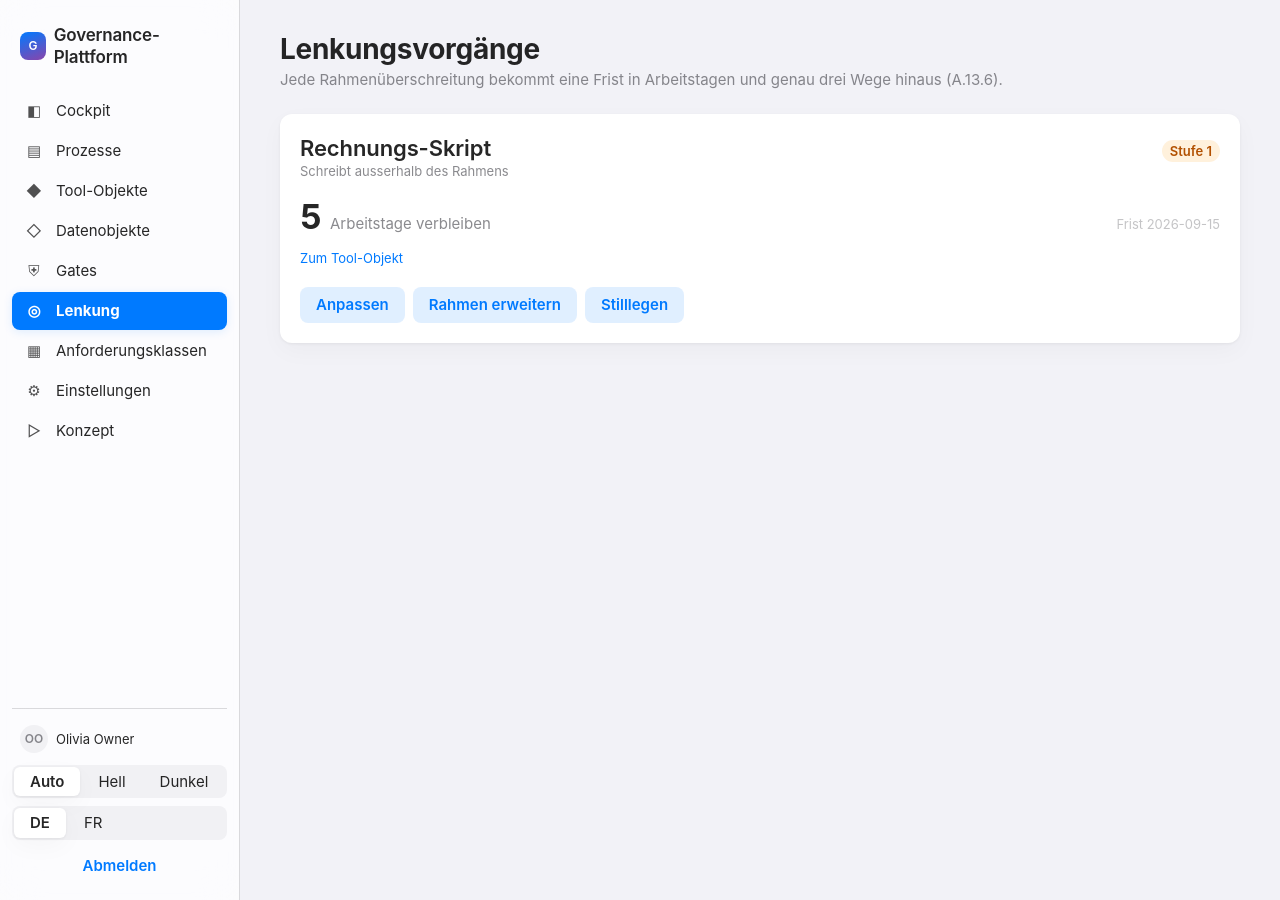
Test case: Lenkungsvorgaenge › loest per Anpassen auf
The width and height of the screenshot is (1280, 900).
Click the button with test id "anpassen-lv-1".
click(352, 305)  # box [300, 287, 405, 323]
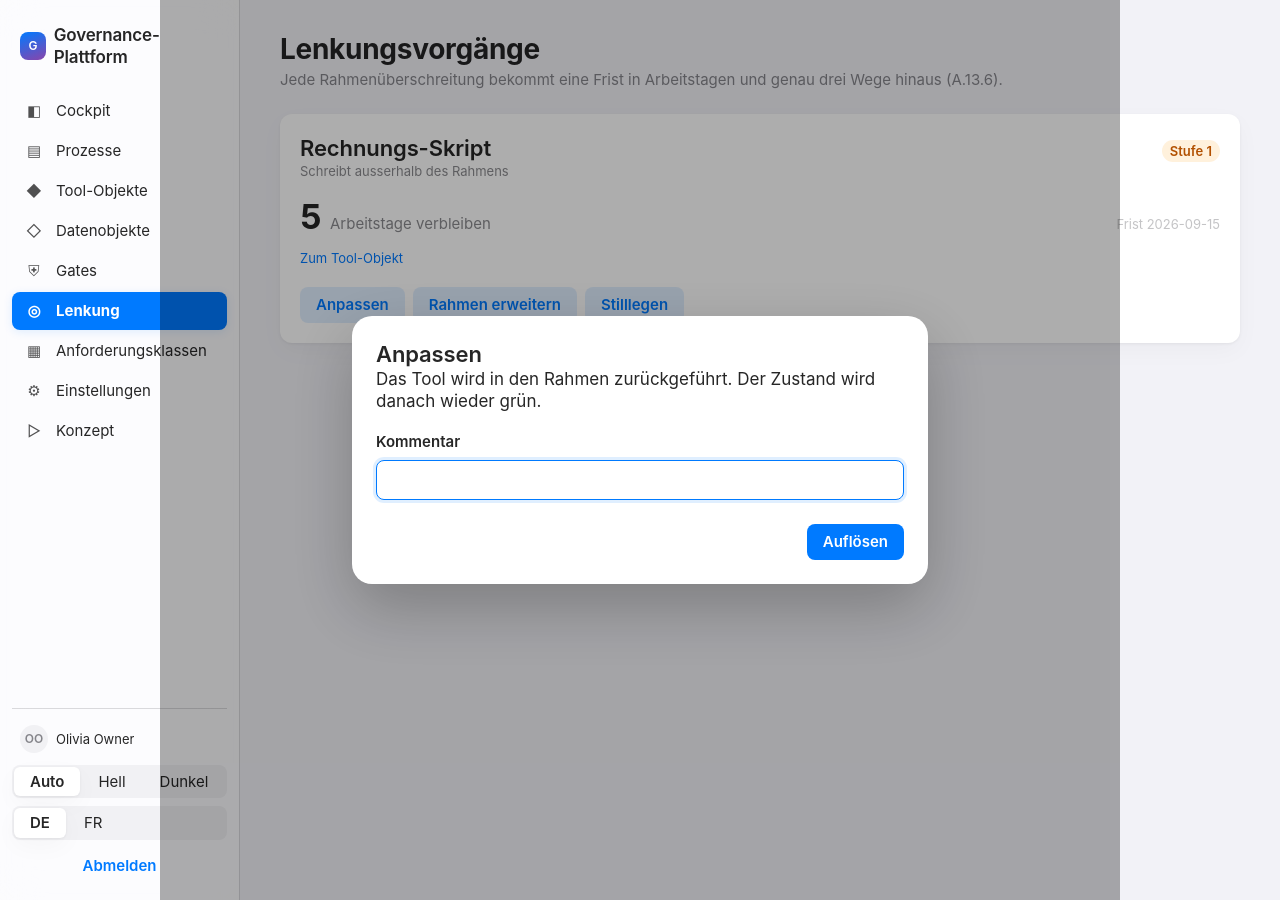
Type "Schreibzugriff entfernt" into the field labelled "Kommentar".
click(640, 480); type("Schreibzugriff entfernt")  # box [376, 460, 904, 500]
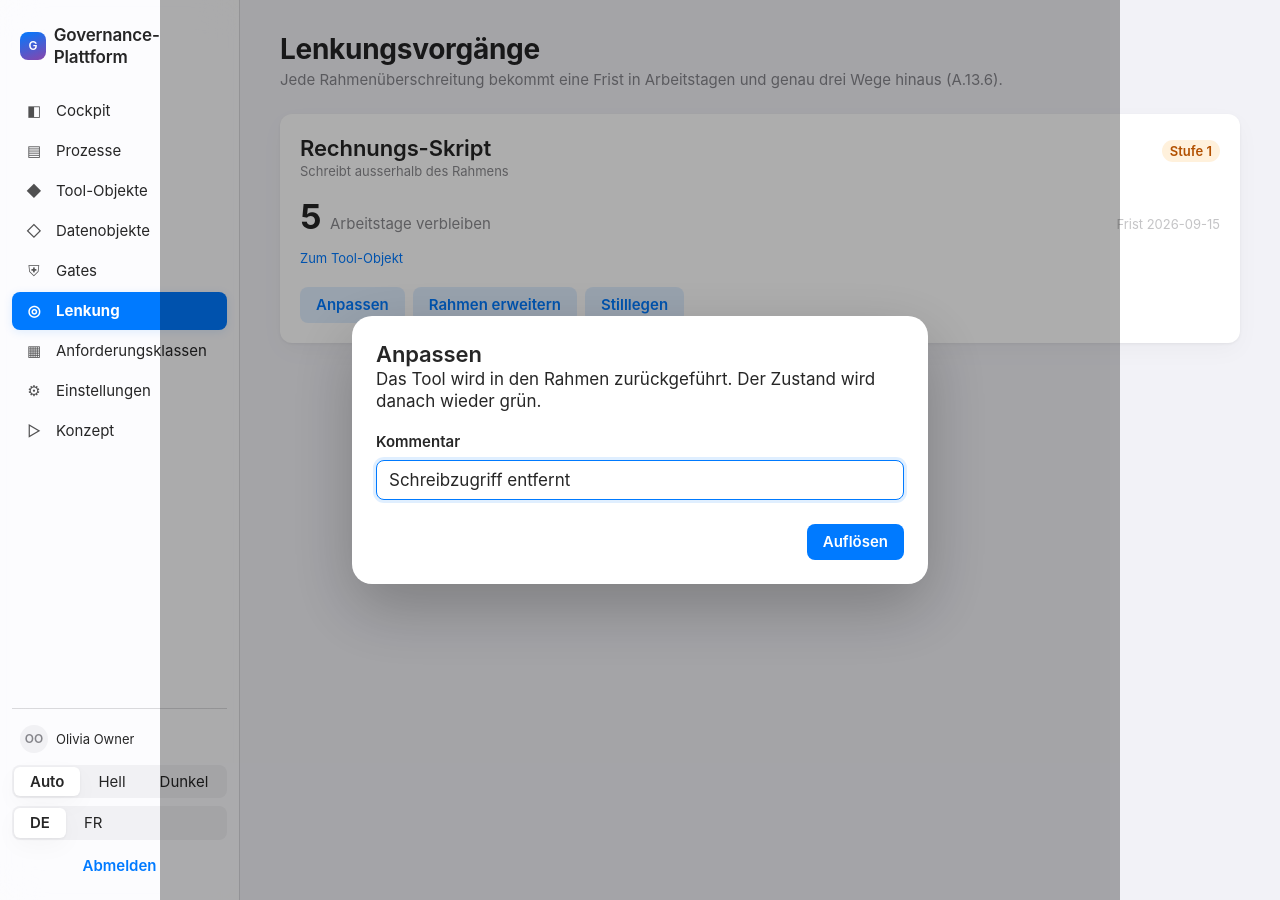
Click the button with test id "aufloesen".
click(855, 542)  # box [807, 524, 904, 560]
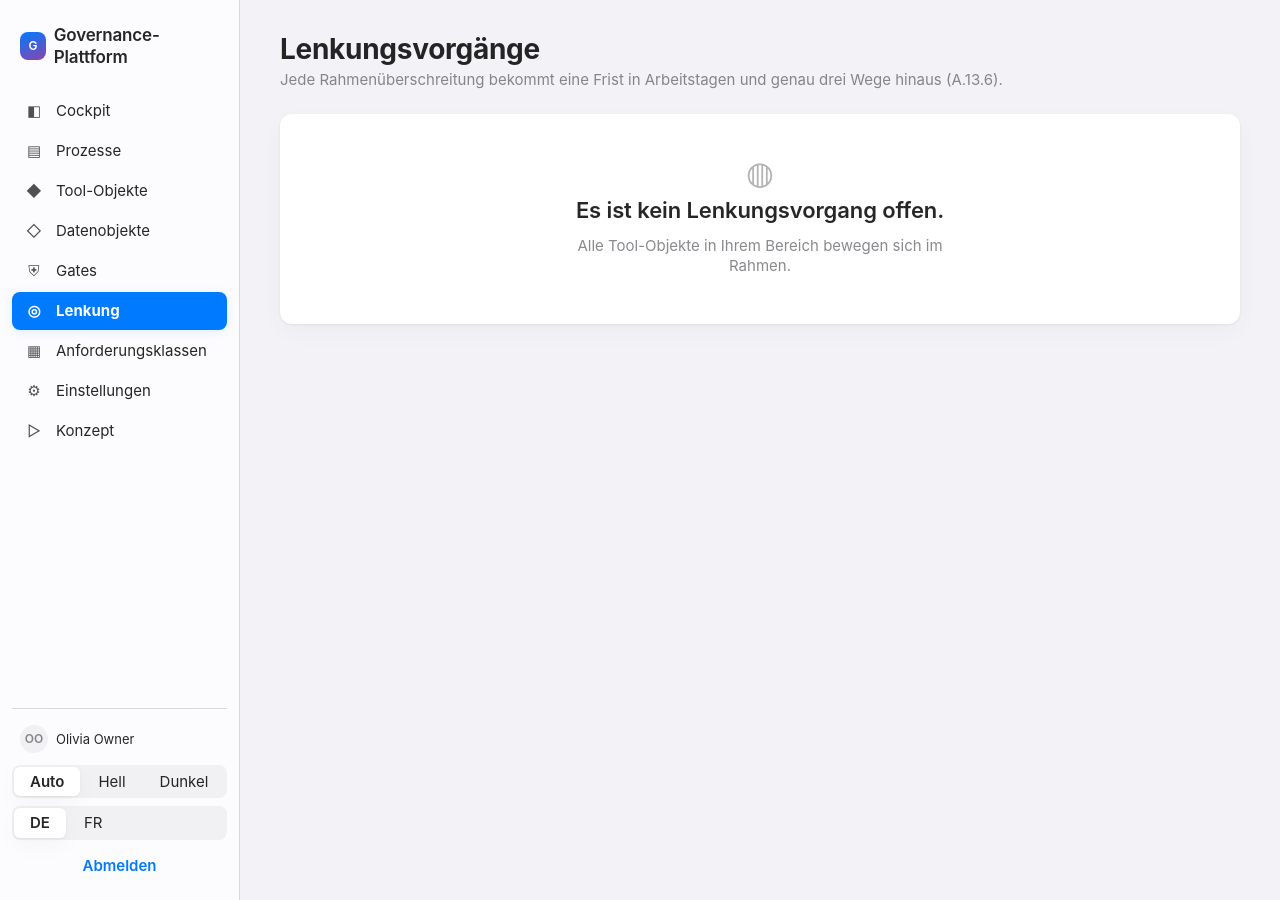
Result: the heading "Es ist kein Lenkungsvorgang offen." is shown at [576, 196, 944, 224]
